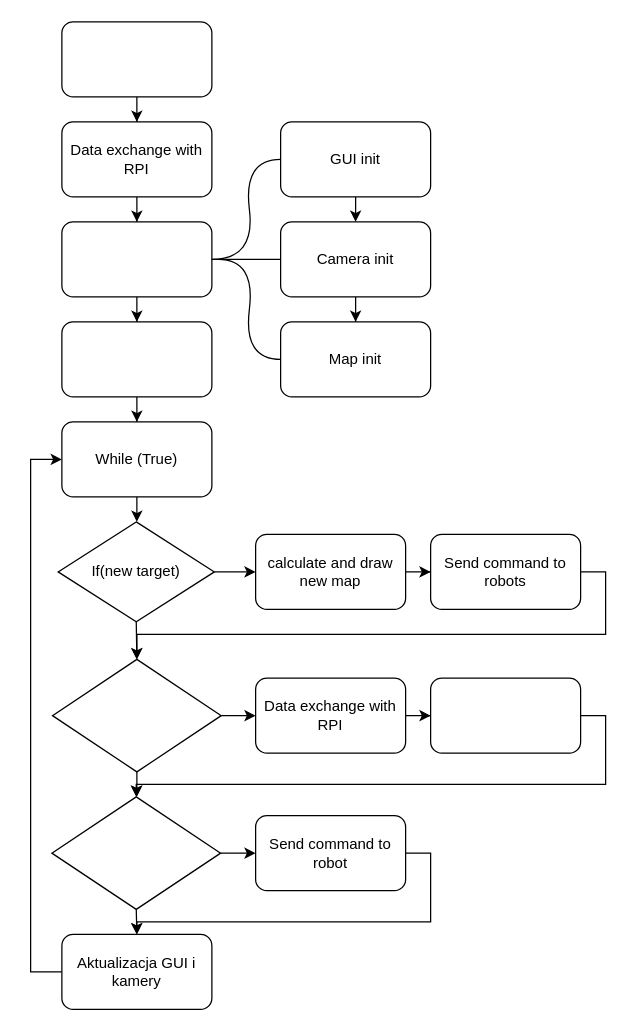
This 638x1031 diagram has some shape labels left out. Each missing label, with the centre of its shape:
App init: the point at 136,259
Draw new obstacles: the point at 505,715
Draw obstacles: the point at 136,359
Event (Contol buttons): the point at 136,852
If(Map update): the point at 136,715
START: the point at 136,59
